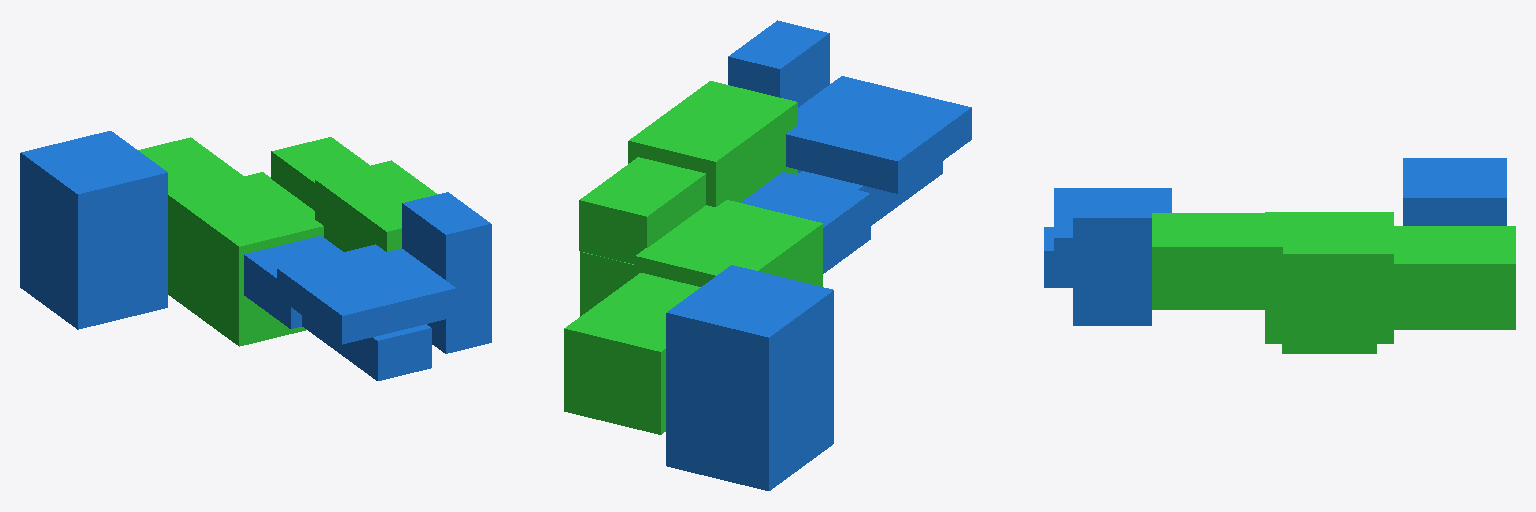
robot.urdf — robot:
<robot name = "robot">
    <link name="Link0">
        <inertial>
            <origin xyz="0 0 2" rpy="0 0 0"/>
            <mass value="1.0182089440835969" />
            <inertia ixx="100" ixy="0" ixz="0" iyy="100" iyz="0" izz="100" />
        </inertial>
        <visual>
            <origin xyz="0 0 2" rpy="0 0 0"/>
            <geometry>
                <box size="0.8652216915084545 0.9512080919186323 1.2371830820663745" />
            </geometry>
            <material name="No Sensor">
                <color rgba="0.184 0.553 0.933 1.0"/>
            </material>
        </visual>
        <collision>
            <origin xyz="0 0 2" rpy="0 0 0"/>
            <geometry>
                <box size="0.8652216915084545 0.9512080919186323 1.2371830820663745" />
            </geometry>
        </collision>
    </link>
    <joint name="Link0_Link1" type="revolute">
       <parent link="Link0"/>
       <child  link="Link1"/>
       <origin rpy="0 0 0" xyz="0.43261084575422726 0 2" />
       <axis xyz="1 0 0"/>
       <limit effort="0.0" lower="-3.14159" upper="3.14159" velocity="0.0"/>
    </joint>
    <link name="Link1">
        <inertial>
            <origin xyz="0.4061972279785891 0 0" rpy="0 0 0"/>
            <mass value="0.6054124517179643" />
            <inertia ixx="100" ixy="0" ixz="0" iyy="100" iyz="0" izz="100" />
        </inertial>
        <visual>
            <origin xyz="0.4061972279785891 0 0" rpy="0 0 0"/>
            <geometry>
                <box size="0.8123944559571782 1.114416261698348 0.6687086750571659" />
            </geometry>
            <material name="Sensor">
                <color rgba="0.239 0.875 0.282 1.0"/>
            </material>
        </visual>
        <collision>
            <origin xyz="0.4061972279785891 0 0" rpy="0 0 0"/>
            <geometry>
                <box size="0.8123944559571782 1.114416261698348 0.6687086750571659" />
            </geometry>
        </collision>
    </link>
    <joint name="Link1_Link2" type="revolute">
       <parent link="Link1"/>
       <child  link="Link2"/>
       <origin rpy="0 0 0" xyz="0.4061972279785891 -0.557208130849174 0.0" />
       <axis xyz="1 0 0"/>
       <limit effort="0.0" lower="-3.14159" upper="3.14159" velocity="0.0"/>
    </joint>
    <link name="Link2">
        <inertial>
            <origin xyz="0.0 -0.5876305939293831 0.0" rpy="0 0 0"/>
            <mass value="0.9717310950105925" />
            <inertia ixx="100" ixy="0" ixz="0" iyy="100" iyz="0" izz="100" />
        </inertial>
        <visual>
            <origin xyz="0.0 -0.5876305939293831 0.0" rpy="0 0 0"/>
            <geometry>
                <box size="0.9044693512274343 1.1752611878587662 0.9141508156440753" />
            </geometry>
            <material name="Sensor">
                <color rgba="0.239 0.875 0.282 1.0"/>
            </material>
        </visual>
        <collision>
            <origin xyz="0.0 -0.5876305939293831 0.0" rpy="0 0 0"/>
            <geometry>
                <box size="0.9044693512274343 1.1752611878587662 0.9141508156440753" />
            </geometry>
        </collision>
    </link>
    <joint name="Link2_Link3" type="revolute">
       <parent link="Link2"/>
       <child  link="Link3"/>
       <origin rpy="0 0 0" xyz="0.45223467561371716 -0.5876305939293831 0.0" />
       <axis xyz="0 1 0"/>
       <limit effort="0.0" lower="-3.14159" upper="3.14159" velocity="0.0"/>
    </joint>
    <link name="Link3">
        <inertial>
            <origin xyz="0.2765403379715331 0.0 0.0" rpy="0 0 0"/>
            <mass value="0.28932440147809946" />
            <inertia ixx="100" ixy="0" ixz="0" iyy="100" iyz="0" izz="100" />
        </inertial>
        <visual>
            <origin xyz="0.2765403379715331 0.0 0.0" rpy="0 0 0"/>
            <geometry>
                <box size="0.5530806759430662 0.8699456938616299 0.6013183203581925" />
            </geometry>
            <material name="Sensor">
                <color rgba="0.239 0.875 0.282 1.0"/>
            </material>
        </visual>
        <collision>
            <origin xyz="0.2765403379715331 0.0 0.0" rpy="0 0 0"/>
            <geometry>
                <box size="0.5530806759430662 0.8699456938616299 0.6013183203581925" />
            </geometry>
        </collision>
    </link>
    <joint name="Link3_Link4" type="revolute">
       <parent link="Link3"/>
       <child  link="Link4"/>
       <origin rpy="0 0 0" xyz="0.2765403379715331 0.0 0.3006591601790963" />
       <axis xyz="0 0 1"/>
       <limit effort="0.0" lower="-3.14159" upper="3.14159" velocity="0.0"/>
    </joint>
    <link name="Link4">
        <inertial>
            <origin xyz="0.0 0.0 0.20516161599419352" rpy="0 0 0"/>
            <mass value="0.2020237550027217" />
            <inertia ixx="100" ixy="0" ixz="0" iyy="100" iyz="0" izz="100" />
        </inertial>
        <visual>
            <origin xyz="0.0 0.0 0.20516161599419352" rpy="0 0 0"/>
            <geometry>
                <box size="0.5723666751344195 0.8602050587463702 0.41032323198838705" />
            </geometry>
            <material name="Sensor">
                <color rgba="0.239 0.875 0.282 1.0"/>
            </material>
        </visual>
        <collision>
            <origin xyz="0.0 0.0 0.20516161599419352" rpy="0 0 0"/>
            <geometry>
                <box size="0.5723666751344195 0.8602050587463702 0.41032323198838705" />
            </geometry>
        </collision>
    </link>
    <joint name="Link4_Link5" type="revolute">
       <parent link="Link4"/>
       <child  link="Link5"/>
       <origin rpy="0 0 0" xyz="0.0 -0.4301025293731851 0.20516161599419352" />
       <axis xyz="1 0 0"/>
       <limit effort="0.0" lower="-3.14159" upper="3.14159" velocity="0.0"/>
    </joint>
    <link name="Link5">
        <inertial>
            <origin xyz="0.0 -0.5978171424931957 0.0" rpy="0 0 0"/>
            <mass value="0.5583962479520865" />
            <inertia ixx="100" ixy="0" ixz="0" iyy="100" iyz="0" izz="100" />
        </inertial>
        <visual>
            <origin xyz="0.0 -0.5978171424931957 0.0" rpy="0 0 0"/>
            <geometry>
                <box size="0.7367389357577533 1.1956342849863915 0.633914241978538" />
            </geometry>
            <material name="Sensor">
                <color rgba="0.239 0.875 0.282 1.0"/>
            </material>
        </visual>
        <collision>
            <origin xyz="0.0 -0.5978171424931957 0.0" rpy="0 0 0"/>
            <geometry>
                <box size="0.7367389357577533 1.1956342849863915 0.633914241978538" />
            </geometry>
        </collision>
    </link>
    <joint name="Link5_Link6" type="revolute">
       <parent link="Link5"/>
       <child  link="Link6"/>
       <origin rpy="0 0 0" xyz="0.0 -1.1956342849863915 0.0" />
       <axis xyz="1 0 0"/>
       <limit effort="0.0" lower="-3.14159" upper="3.14159" velocity="0.0"/>
    </joint>
    <link name="Link6">
        <inertial>
            <origin xyz="0.0 -0.3594194748210905 0.0" rpy="0 0 0"/>
            <mass value="0.344228776544583" />
            <inertia ixx="100" ixy="0" ixz="0" iyy="100" iyz="0" izz="100" />
        </inertial>
        <visual>
            <origin xyz="0.0 -0.3594194748210905 0.0" rpy="0 0 0"/>
            <geometry>
                <box size="0.43896259324581144 0.718838949642181 1.0909078314535323" />
            </geometry>
            <material name="No Sensor">
                <color rgba="0.184 0.553 0.933 1.0"/>
            </material>
        </visual>
        <collision>
            <origin xyz="0.0 -0.3594194748210905 0.0" rpy="0 0 0"/>
            <geometry>
                <box size="0.43896259324581144 0.718838949642181 1.0909078314535323" />
            </geometry>
        </collision>
    </link>
    <joint name="Link6_Link7" type="revolute">
       <parent link="Link6"/>
       <child  link="Link7"/>
       <origin rpy="0 0 0" xyz="-0.21948129662290572 -0.3594194748210905 0.0" />
       <axis xyz="0 1 0"/>
       <limit effort="0.0" lower="-3.14159" upper="3.14159" velocity="0.0"/>
    </joint>
    <link name="Link7">
        <inertial>
            <origin xyz="-0.5463338612975164 0.0 0.0" rpy="0 0 0"/>
            <mass value="0.3079346937593704" />
            <inertia ixx="100" ixy="0" ixz="0" iyy="100" iyz="0" izz="100" />
        </inertial>
        <visual>
            <origin xyz="-0.5463338612975164 0.0 0.0" rpy="0 0 0"/>
            <geometry>
                <box size="1.0926677225950328 1.077803239459222 0.26147551260581336" />
            </geometry>
            <material name="No Sensor">
                <color rgba="0.184 0.553 0.933 1.0"/>
            </material>
        </visual>
        <collision>
            <origin xyz="-0.5463338612975164 0.0 0.0" rpy="0 0 0"/>
            <geometry>
                <box size="1.0926677225950328 1.077803239459222 0.26147551260581336" />
            </geometry>
        </collision>
    </link>
    <joint name="Link7_Link8" type="revolute">
       <parent link="Link7"/>
       <child  link="Link8"/>
       <origin rpy="0 0 0" xyz="-0.5463338612975164 0.0 -0.13073775630290668" />
       <axis xyz="0 0 1"/>
       <limit effort="0.0" lower="-3.14159" upper="3.14159" velocity="0.0"/>
    </joint>
    <link name="Link8">
        <inertial>
            <origin xyz="0.0 0.0 -0.18484163859624325" rpy="0 0 0"/>
            <mass value="0.23890270316196716" />
            <inertia ixx="100" ixy="0" ixz="0" iyy="100" iyz="0" izz="100" />
        </inertial>
        <visual>
            <origin xyz="0.0 0.0 -0.18484163859624325" rpy="0 0 0"/>
            <geometry>
                <box size="0.5170403099282952 1.2498757875742625 0.3696832771924865" />
            </geometry>
            <material name="No Sensor">
                <color rgba="0.184 0.553 0.933 1.0"/>
            </material>
        </visual>
        <collision>
            <origin xyz="0.0 0.0 -0.18484163859624325" rpy="0 0 0"/>
            <geometry>
                <box size="0.5170403099282952 1.2498757875742625 0.3696832771924865" />
            </geometry>
        </collision>
    </link>
    <joint name="Link8_Link9" type="revolute">
       <parent link="Link8"/>
       <child  link="Link9"/>
       <origin rpy="0 0 0" xyz="0.0 0.6249378937871313 -0.18484163859624325" />
       <axis xyz="0 1 0"/>
       <limit effort="0.0" lower="-3.14159" upper="3.14159" velocity="0.0"/>
    </joint>
    <link name="Link9">
        <inertial>
            <origin xyz="0.0 0.5200130753013427 0.0" rpy="0 0 0"/>
            <mass value="0.28649767311299407" />
            <inertia ixx="100" ixy="0" ixz="0" iyy="100" iyz="0" izz="100" />
        </inertial>
        <visual>
            <origin xyz="0.0 0.5200130753013427 0.0" rpy="0 0 0"/>
            <geometry>
                <box size="0.7400894960876333 1.0400261506026853 0.3722139100938562" />
            </geometry>
            <material name="No Sensor">
                <color rgba="0.184 0.553 0.933 1.0"/>
            </material>
        </visual>
        <collision>
            <origin xyz="0.0 0.5200130753013427 0.0" rpy="0 0 0"/>
            <geometry>
                <box size="0.7400894960876333 1.0400261506026853 0.3722139100938562" />
            </geometry>
        </collision>
    </link>
</robot>

--- Render facts (derived) ---
Views: 3 orthographic renders of the robot side by side, from view 1: azimuth 30°, elevation 25°; view 2: azimuth 150°, elevation 25°; view 3: azimuth 270°, elevation 25°.
Model robot with 10 links and 9 joints (9 revolute), rooted at Link0, posed all joints at 0.
Links seen in each view (by area): view 1: Link0, Link2, Link7, Link6, Link5, Link8, Link9, Link4, Link1; view 2: Link0, Link7, Link1, Link5, Link2, Link4, Link6, Link9, Link3, Link8; view 3: Link5, Link1, Link6, Link0, Link4, Link3, Link2, Link7, Link8.
Boxes of the visible links, x1,y1,x2,y2 form: Link0: (20, 131, 167, 329); Link2: (168, 172, 323, 346); Link7: (277, 244, 455, 344); Link6: (402, 192, 491, 353); Link5: (315, 160, 437, 251); Link8: (302, 315, 431, 380); Link9: (244, 236, 342, 328); Link4: (271, 137, 369, 210); Link1: (138, 137, 243, 194); Link0: (666, 265, 833, 490); Link7: (786, 76, 971, 193); Link1: (564, 273, 700, 434); Link5: (628, 81, 797, 206); Link2: (635, 200, 822, 286); Link4: (579, 157, 705, 264); Link6: (728, 20, 829, 172); Link9: (741, 172, 870, 273); Link3: (580, 252, 634, 316); Link8: (797, 161, 942, 225); Link5: (1152, 213, 1282, 309); Link1: (1394, 226, 1515, 329); Link6: (1073, 197, 1151, 325); Link0: (1403, 158, 1506, 225); Link4: (1283, 228, 1376, 294); Link3: (1282, 295, 1376, 353); Link2: (1265, 212, 1393, 343); Link7: (1054, 188, 1171, 263); Link8: (1044, 227, 1072, 287).
Size in the robot's own frame: 2.37 by 4.31 by 1.67 metres.
Geometry: primitives only (box / cylinder / sphere), no mesh files.